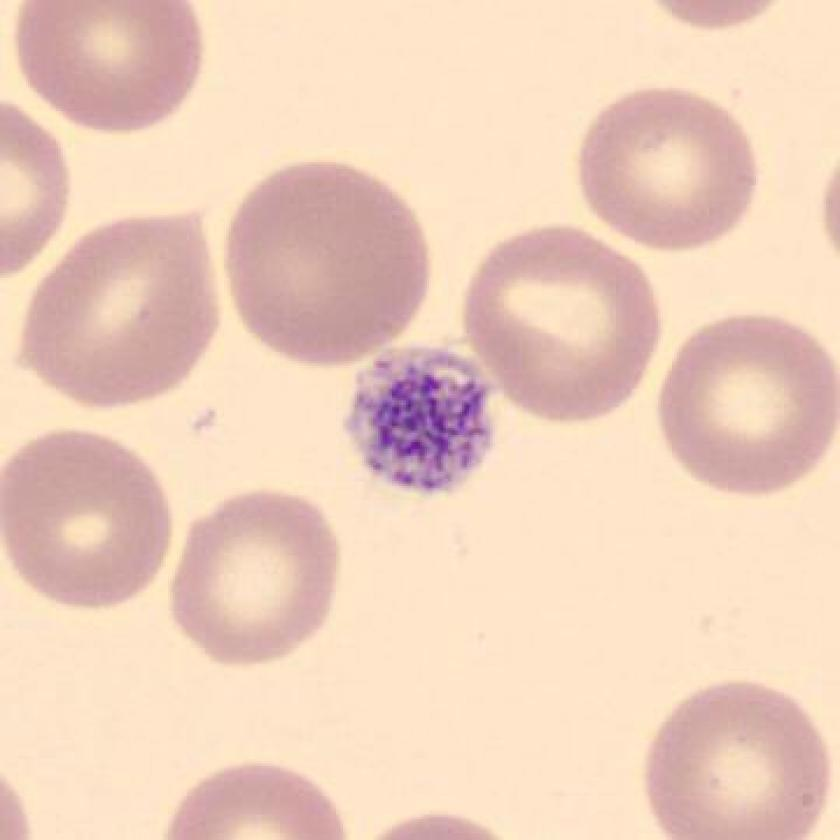platelets: (344, 344, 505, 503)
